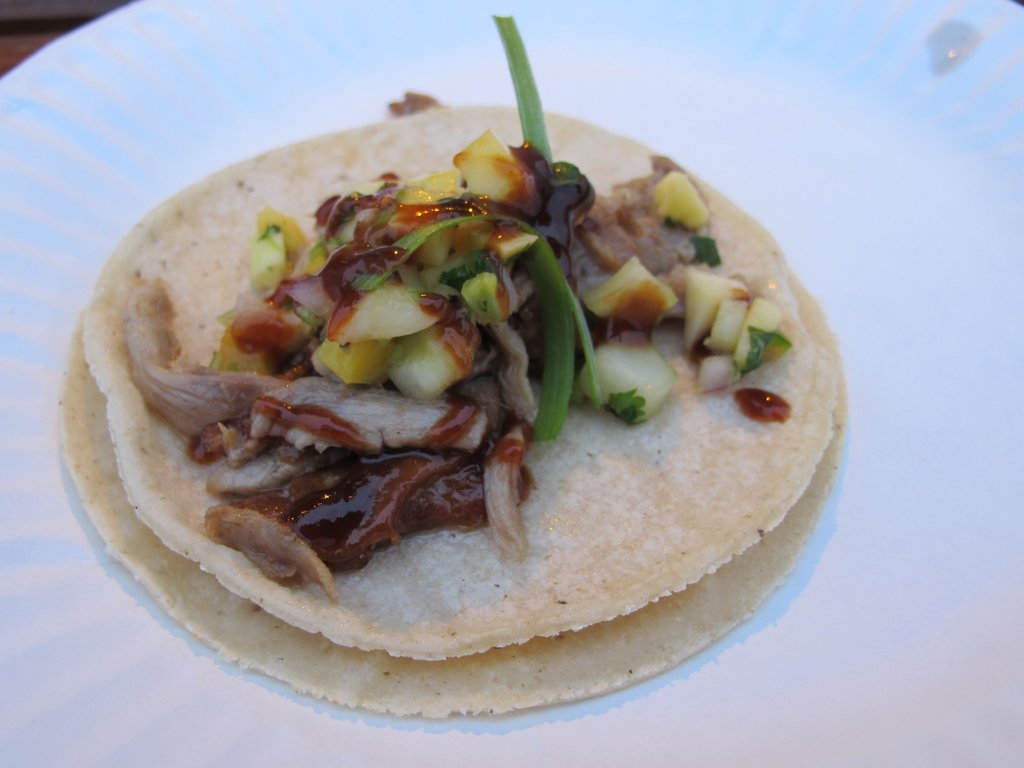taco: (60, 15, 850, 720)
